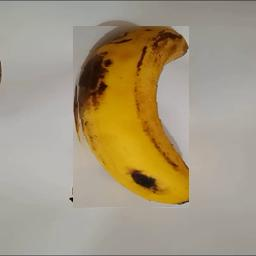Banana Semifresh: (73, 27, 189, 209)
